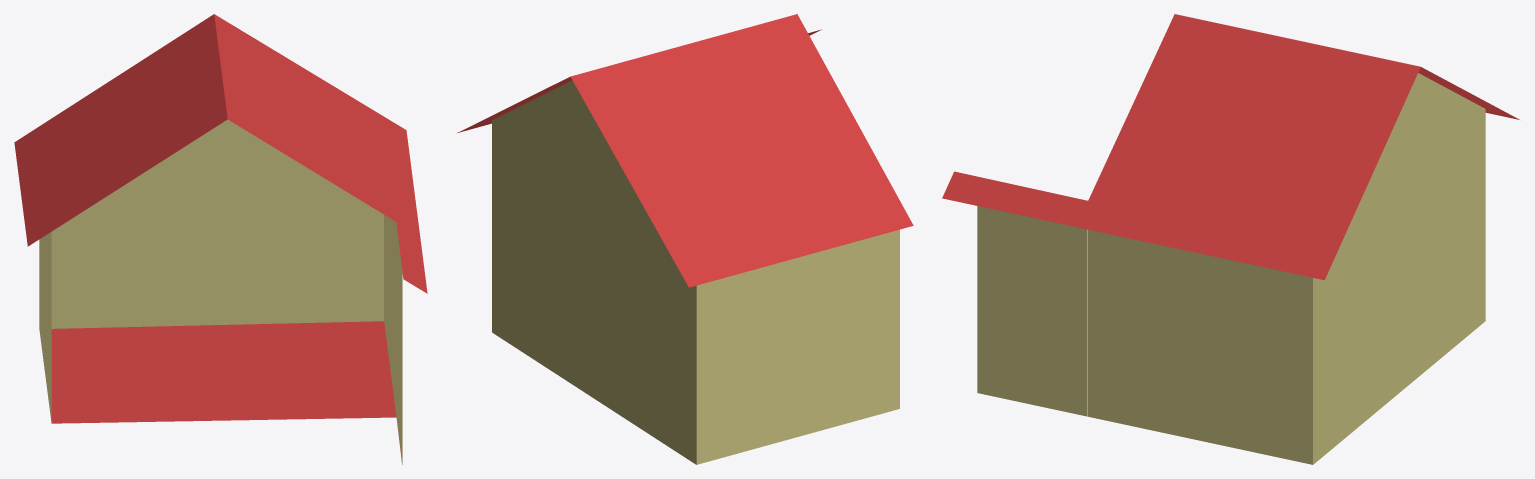
3 renders of one model, left to right at view 1: azimuth 30°, elevation 25°; view 2: azimuth 150°, elevation 25°; view 3: azimuth 270°, elevation 25°, orthographic. The views are drawn at different scales.
Bounding box in the file's own units: 14.59 × 16.54 × 10.49.
